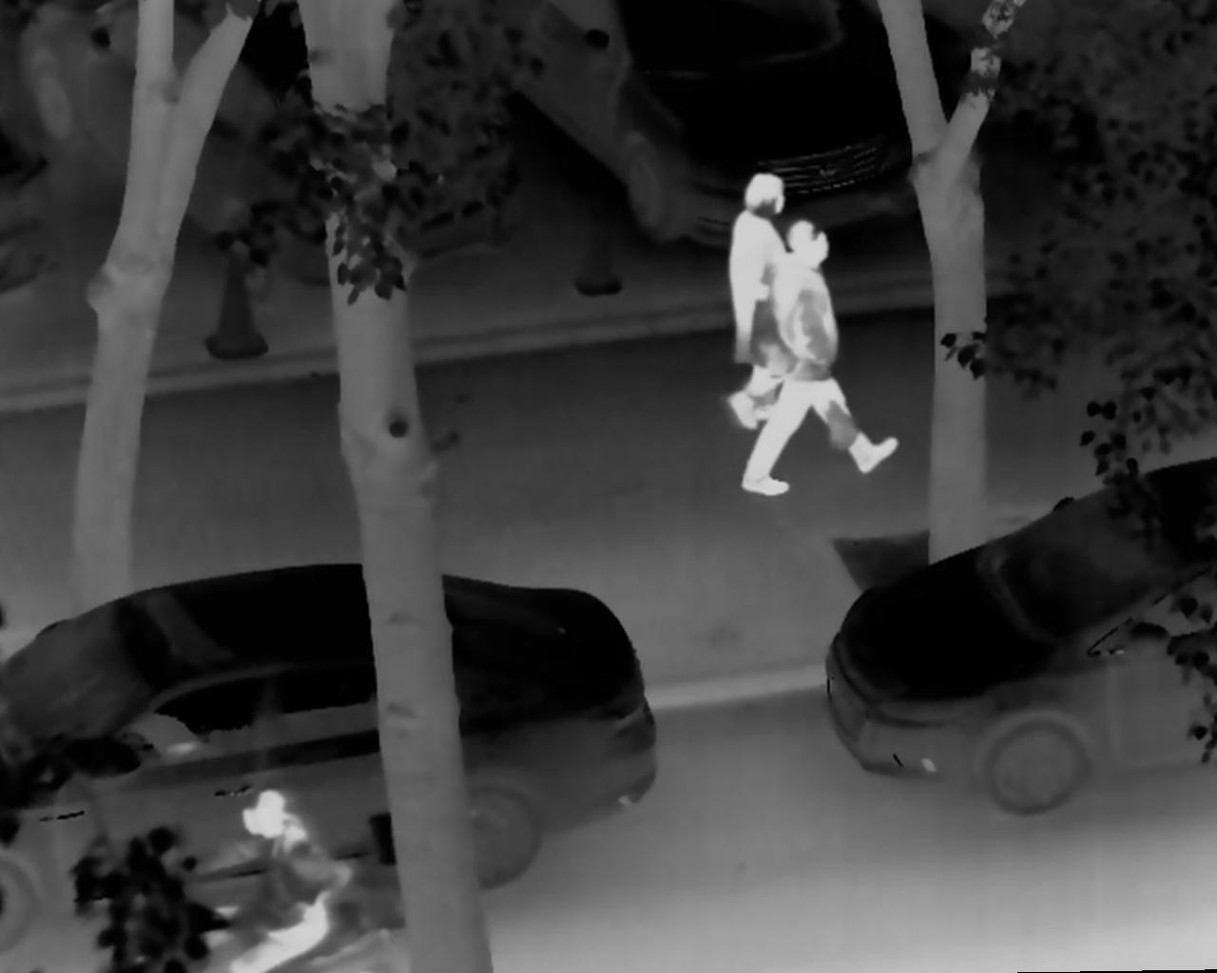person: (740, 215, 900, 501), (187, 790, 347, 973), (716, 177, 812, 429)
